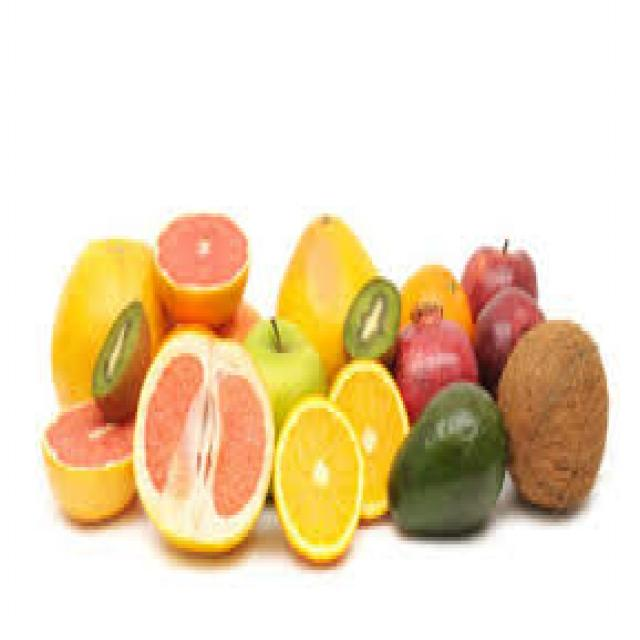organic waste: (133, 316, 274, 556), (496, 316, 607, 522), (53, 235, 175, 412), (385, 372, 503, 540), (274, 217, 388, 372), (246, 313, 323, 500), (272, 408, 366, 556), (40, 397, 142, 526), (332, 357, 410, 511), (150, 210, 244, 334), (396, 305, 481, 427), (474, 283, 540, 401), (91, 298, 148, 416), (465, 243, 538, 331), (339, 276, 401, 375), (399, 265, 476, 335), (219, 298, 257, 349)
